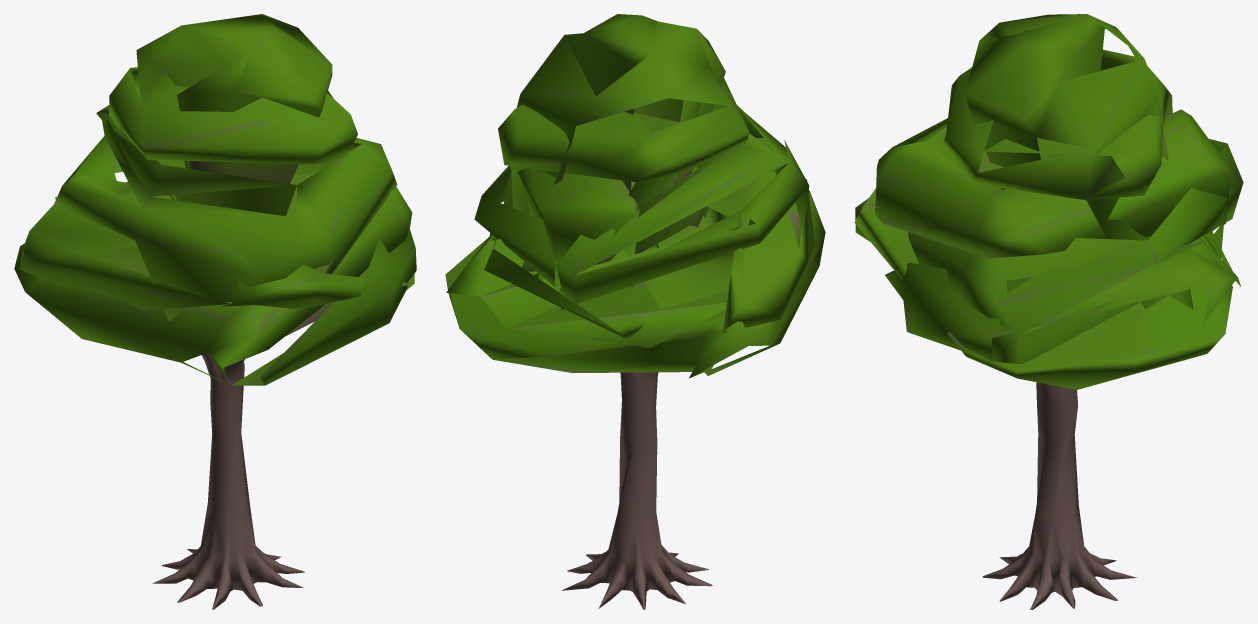
The model's file is tree-beech-01.glb.
The picture shows the model from 3 angles, left to right: view 1: azimuth 30°, elevation 25°; view 2: azimuth 150°, elevation 25°; view 3: azimuth 270°, elevation 25°; orthographic projection.
Bounding box in the file's own units: 0.6191 × 0.9521 × 0.6089.
1 material, 1 textured.
